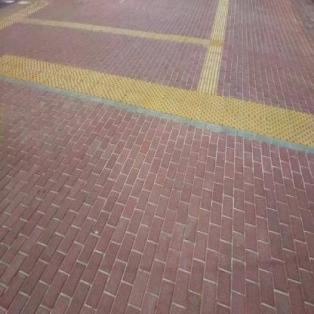Podoctatil: (0, 0, 312, 166)
